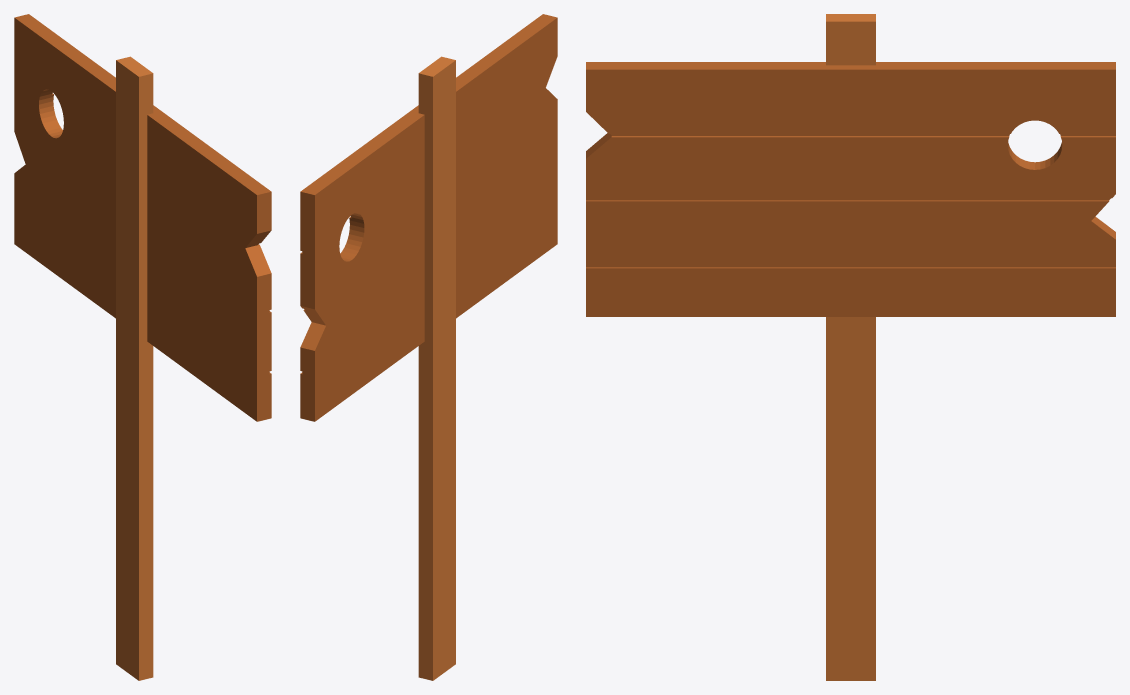
Rendered from kanban(ana).fbx.
3 views of the same model, side by side, from view 1: azimuth 30°, elevation 25°; view 2: azimuth 150°, elevation 25°; view 3: azimuth 270°, elevation 25° (orthographic). The views are drawn at different scales.
Visible parts, largest first — view 1: Cube, Cube.001; view 2: Cube, Cube.001; view 3: Cube, Cube.001.
Part boxes in pixels (<box>): Cube: <box>14,14,271,421</box>; Cube.001: <box>116,56,153,680</box>; Cube: <box>300,14,557,421</box>; Cube.001: <box>418,56,455,680</box>; Cube: <box>586,62,1115,316</box>; Cube.001: <box>826,14,875,680</box>.
Bounding box in the file's own units: 21.06 × 533 × 388.
